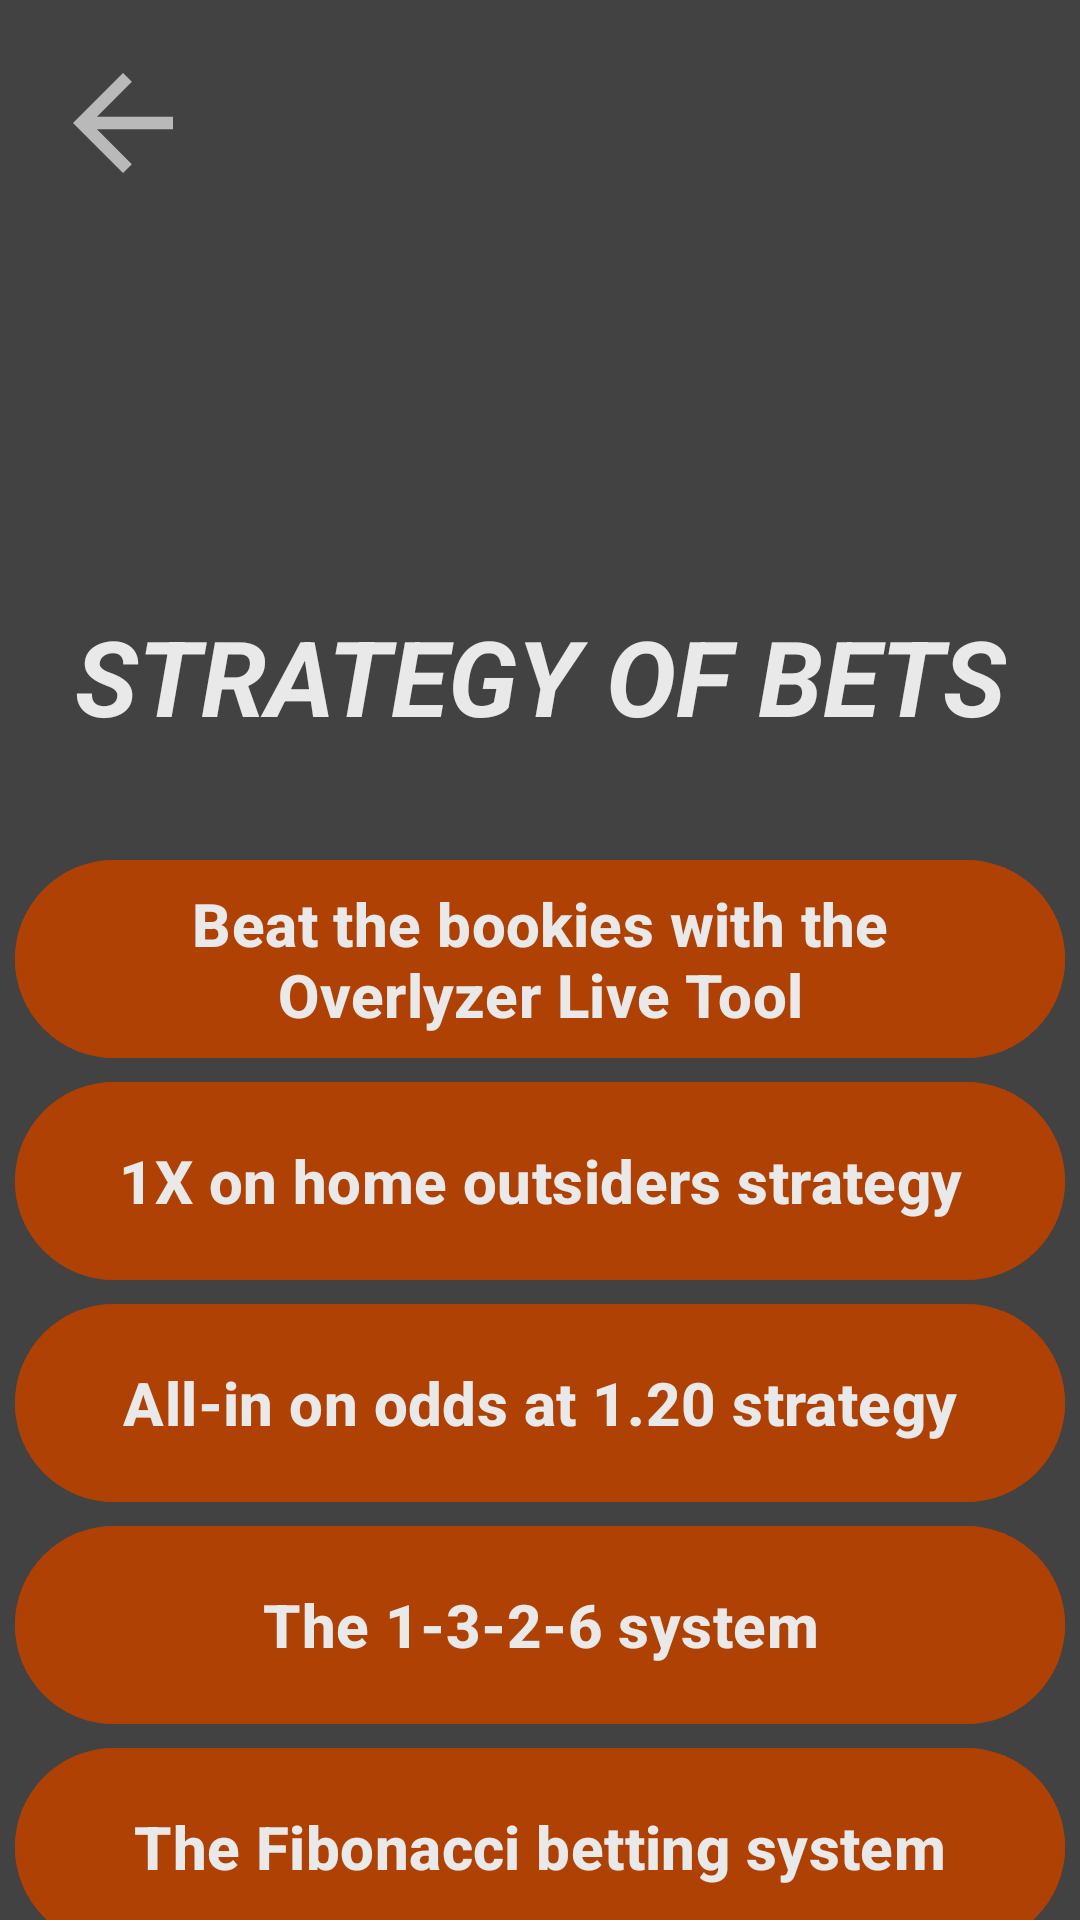

Icon click points for this 1080×1920 phone screenshot, format (x,y):
arrow back: (123,123)
